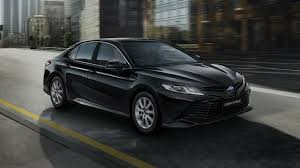Toyota: (46, 38, 251, 116)
